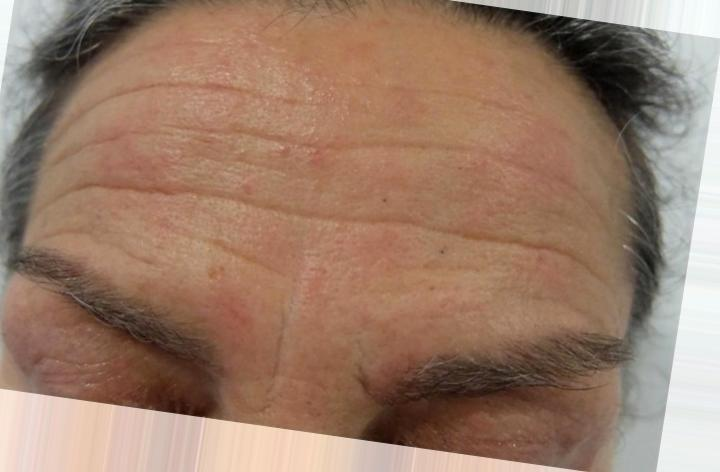Contact Dermatitis: (116, 38, 603, 325)
